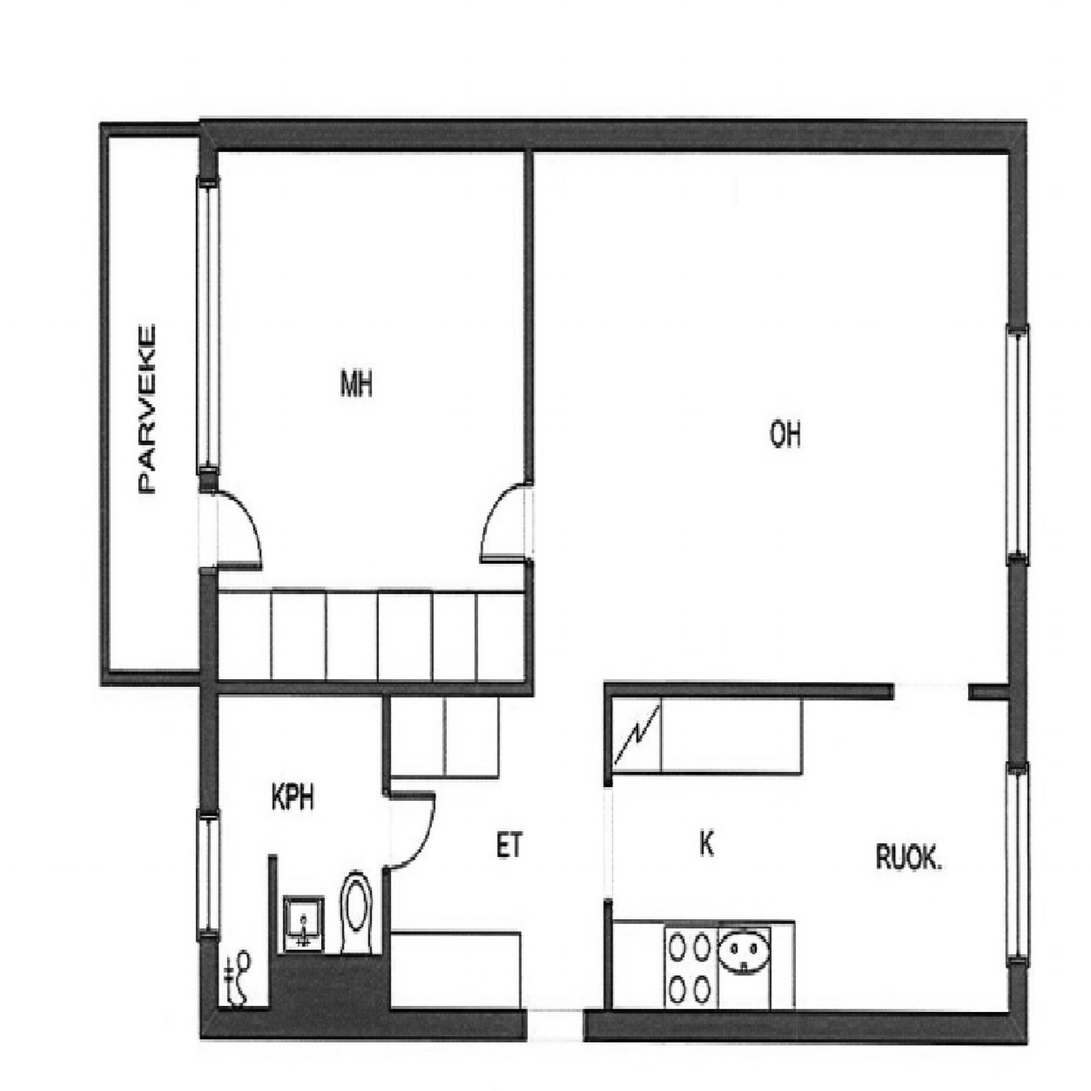wall: (199, 119, 1025, 149), (390, 1009, 1025, 1041), (199, 120, 218, 1041), (1008, 120, 1026, 1042), (269, 956, 390, 1042), (524, 120, 533, 693), (603, 682, 894, 696), (199, 681, 533, 693), (382, 681, 390, 1042), (199, 1007, 269, 1042), (604, 898, 611, 1042), (968, 682, 1026, 696), (603, 682, 610, 786)
